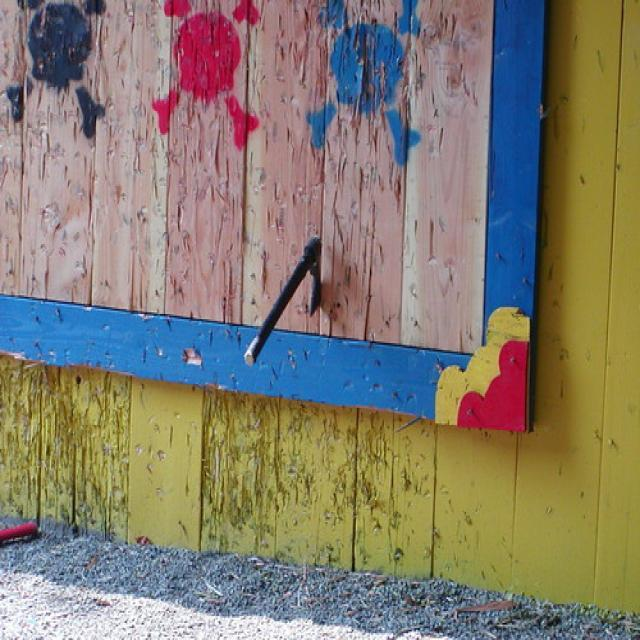Axe: (244, 236, 320, 365)
